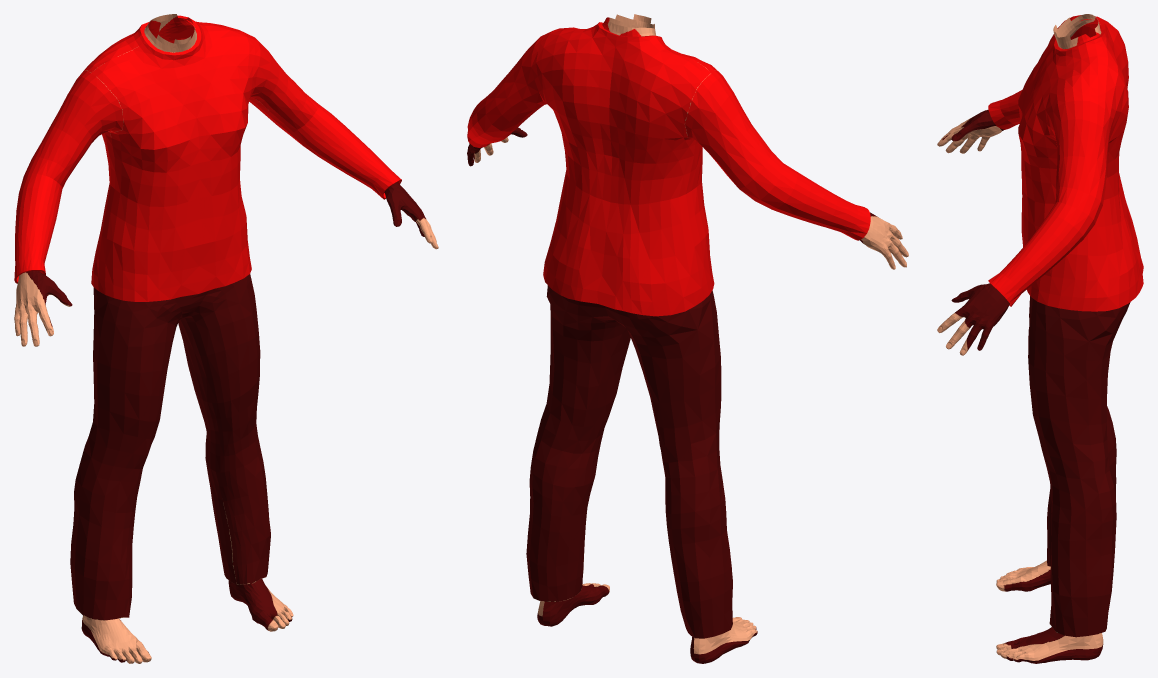
The model's file is torso.dae.
3 renders of one model, left to right at view 1: azimuth 30°, elevation 25°; view 2: azimuth 150°, elevation 25°; view 3: azimuth 270°, elevation 25°, orthographic. The views are drawn at different scales.
Visible parts, largest first — view 1: node; view 2: node; view 3: node.
Boxes of the visible parts, x1,y1,x2,y2 form: node: [14, 14, 438, 663]; node: [467, 14, 908, 663]; node: [937, 14, 1143, 663].
Bounding box in the file's own units: 1.05 × 1.45 × 0.4515.
Materials: 1 (1 with a texture image).
